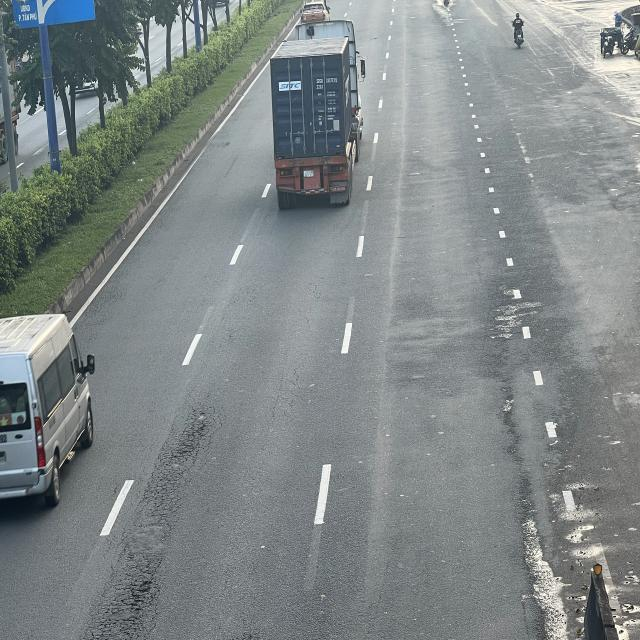container: (269, 20, 364, 204)
van: (0, 310, 95, 507)
